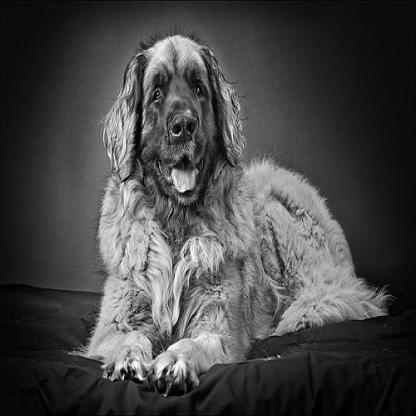Leonberger: (54, 21, 401, 415)
